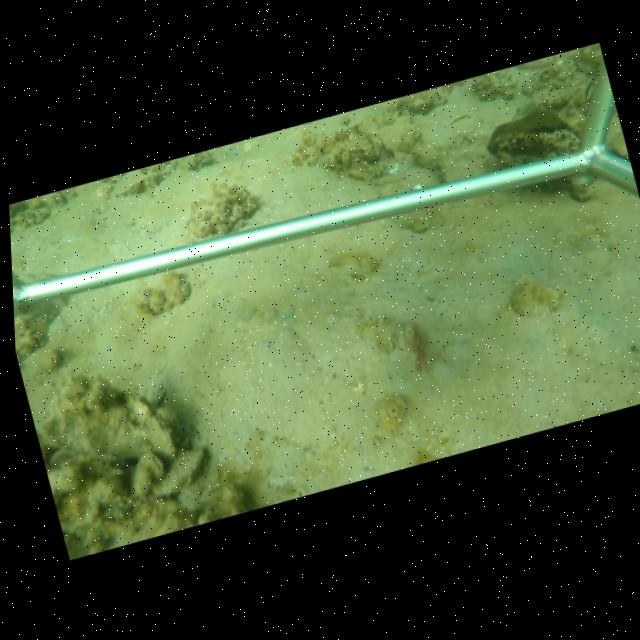Oyster-Closed: (37, 383, 178, 461), (151, 446, 208, 495), (130, 448, 164, 500)
